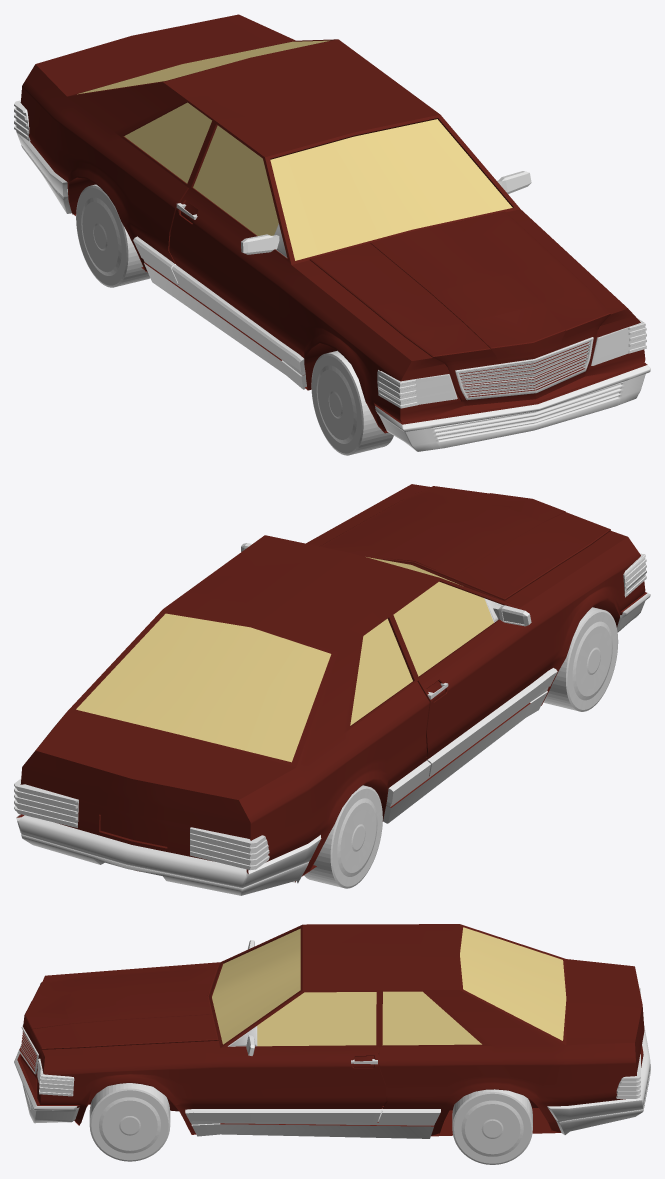
The model's file is gue car.fbx.
3 renders of one model, top to bottom at view 1: azimuth 30°, elevation 25°; view 2: azimuth 150°, elevation 25°; view 3: azimuth 270°, elevation 25°, orthographic. The views are drawn at different scales.
Parts seen in each view (by area): view 1: Cube, Cube.008, Cube.003, Cube.004, Cube.001, Cylinder.007, Cylinder.005, Cylinder.004, Cylinder.006, Cube.002, Cube.007, Cube.011 (+2 smaller); view 2: Cube, Cube.008, Cube.011, Cube.004, Cube.005, Cylinder.007, Cylinder.006, Cylinder.004, Cylinder.005, Cube.002; view 3: Cube, Cube.008, Cube.004, Cylinder.003, Cylinder.002, Cylinder, Cube.011, Cylinder.001, Cube.003, Cube.002, Cube.005, Cube.001.
Part boxes in pixels (bbox=[...]): Cube: bbox=[20, 14, 647, 433]; Cube.008: bbox=[77, 40, 512, 260]; Cube.003: bbox=[375, 365, 650, 451]; Cube.004: bbox=[133, 236, 306, 389]; Cube.001: bbox=[455, 337, 593, 400]; Cylinder.007: bbox=[311, 350, 393, 455]; Cylinder.005: bbox=[81, 197, 121, 275]; Cylinder.004: bbox=[316, 365, 356, 443]; Cylinder.006: bbox=[76, 184, 149, 287]; Cube.002: bbox=[377, 318, 646, 408]; Cube.007: bbox=[241, 171, 531, 254]; Cube.011: bbox=[16, 132, 71, 213]; Cube: bbox=[17, 484, 646, 882]; Cube.008: bbox=[76, 557, 493, 762]; Cube.011: bbox=[16, 814, 321, 895]; Cube.004: bbox=[383, 668, 557, 823]; Cube.005: bbox=[14, 778, 269, 870]; Cylinder.007: bbox=[543, 607, 618, 711]; Cylinder.006: bbox=[304, 785, 382, 888]; Cylinder.004: bbox=[572, 621, 612, 700]; Cylinder.005: bbox=[337, 798, 377, 876]; Cube.002: bbox=[623, 553, 646, 597]; Cube: bbox=[17, 924, 644, 1136]; Cube.008: bbox=[212, 927, 566, 1046]; Cube.004: bbox=[185, 1108, 440, 1138]; Cylinder.003: bbox=[461, 1100, 523, 1156]; Cylinder.002: bbox=[99, 1097, 160, 1153]; Cylinder: bbox=[89, 1083, 170, 1161]; Cube.011: bbox=[547, 1025, 650, 1134]; Cylinder.001: bbox=[452, 1089, 532, 1164]; Cube.003: bbox=[14, 1045, 79, 1123]; Cube.002: bbox=[39, 983, 74, 1096]; Cube.005: bbox=[616, 988, 640, 1098]; Cube.001: bbox=[19, 1025, 38, 1074].
Bounding box in the file's own units: 280 × 196 × 696.
